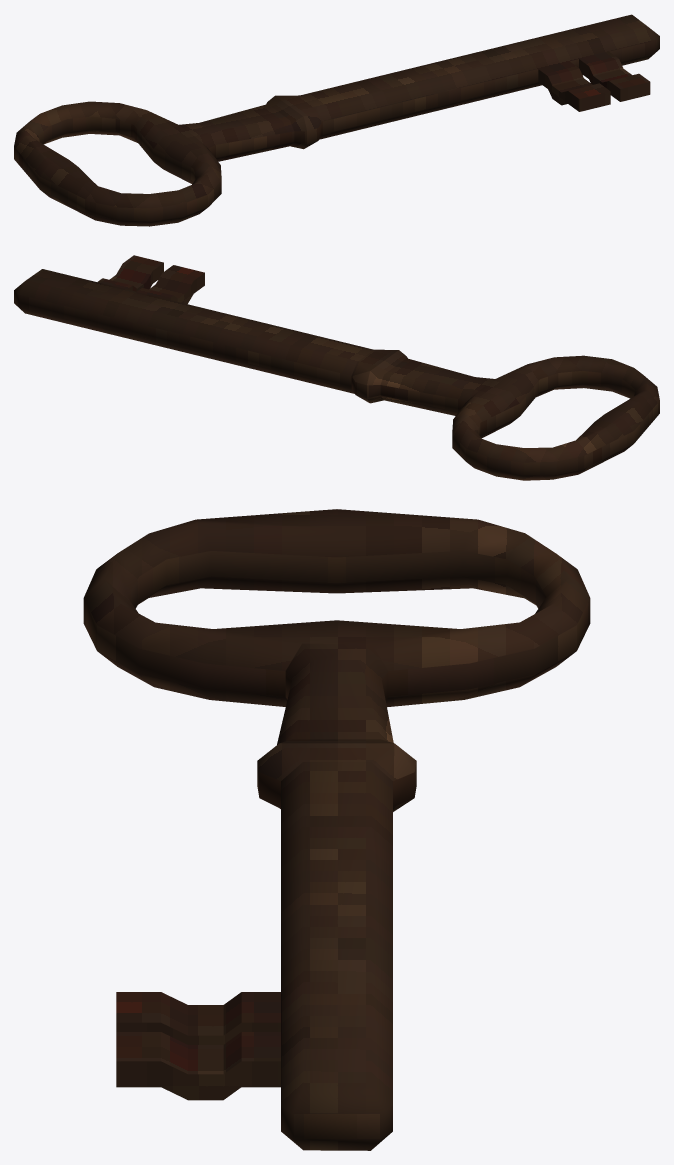
Rendered from key_mp_3_2.glb.
3 views of the same model, one above another, from view 1: azimuth 30°, elevation 25°; view 2: azimuth 150°, elevation 25°; view 3: azimuth 270°, elevation 25° (orthographic). The views are drawn at different scales.
Parts seen in each view (by area): view 1: key_mp_3_2; view 2: key_mp_3_2; view 3: key_mp_3_2.
Part boxes in pixels (left/top/right/bottom): key_mp_3_2: left=14, top=14, right=659, bottom=226; key_mp_3_2: left=14, top=255, right=659, bottom=480; key_mp_3_2: left=83, top=509, right=590, bottom=1150.
Size of the model in its own units: 0.1428 by 0.00726 by 0.0514.
1 material, 1 textured.
